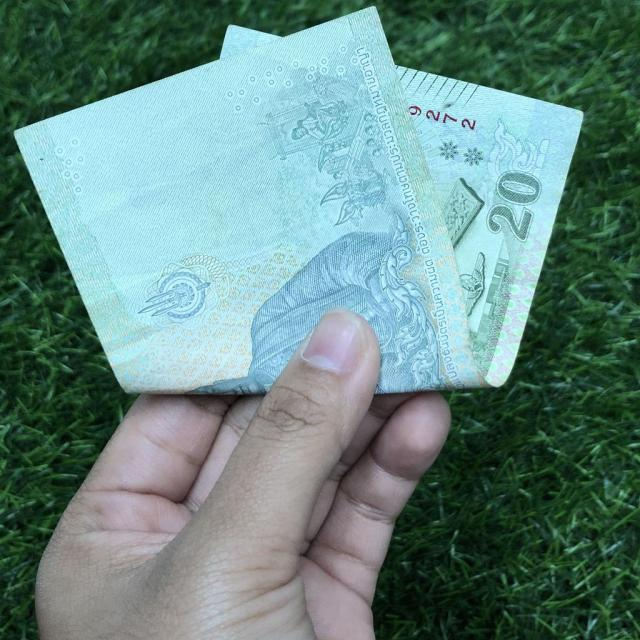THAI20: (15, 8, 582, 393)
